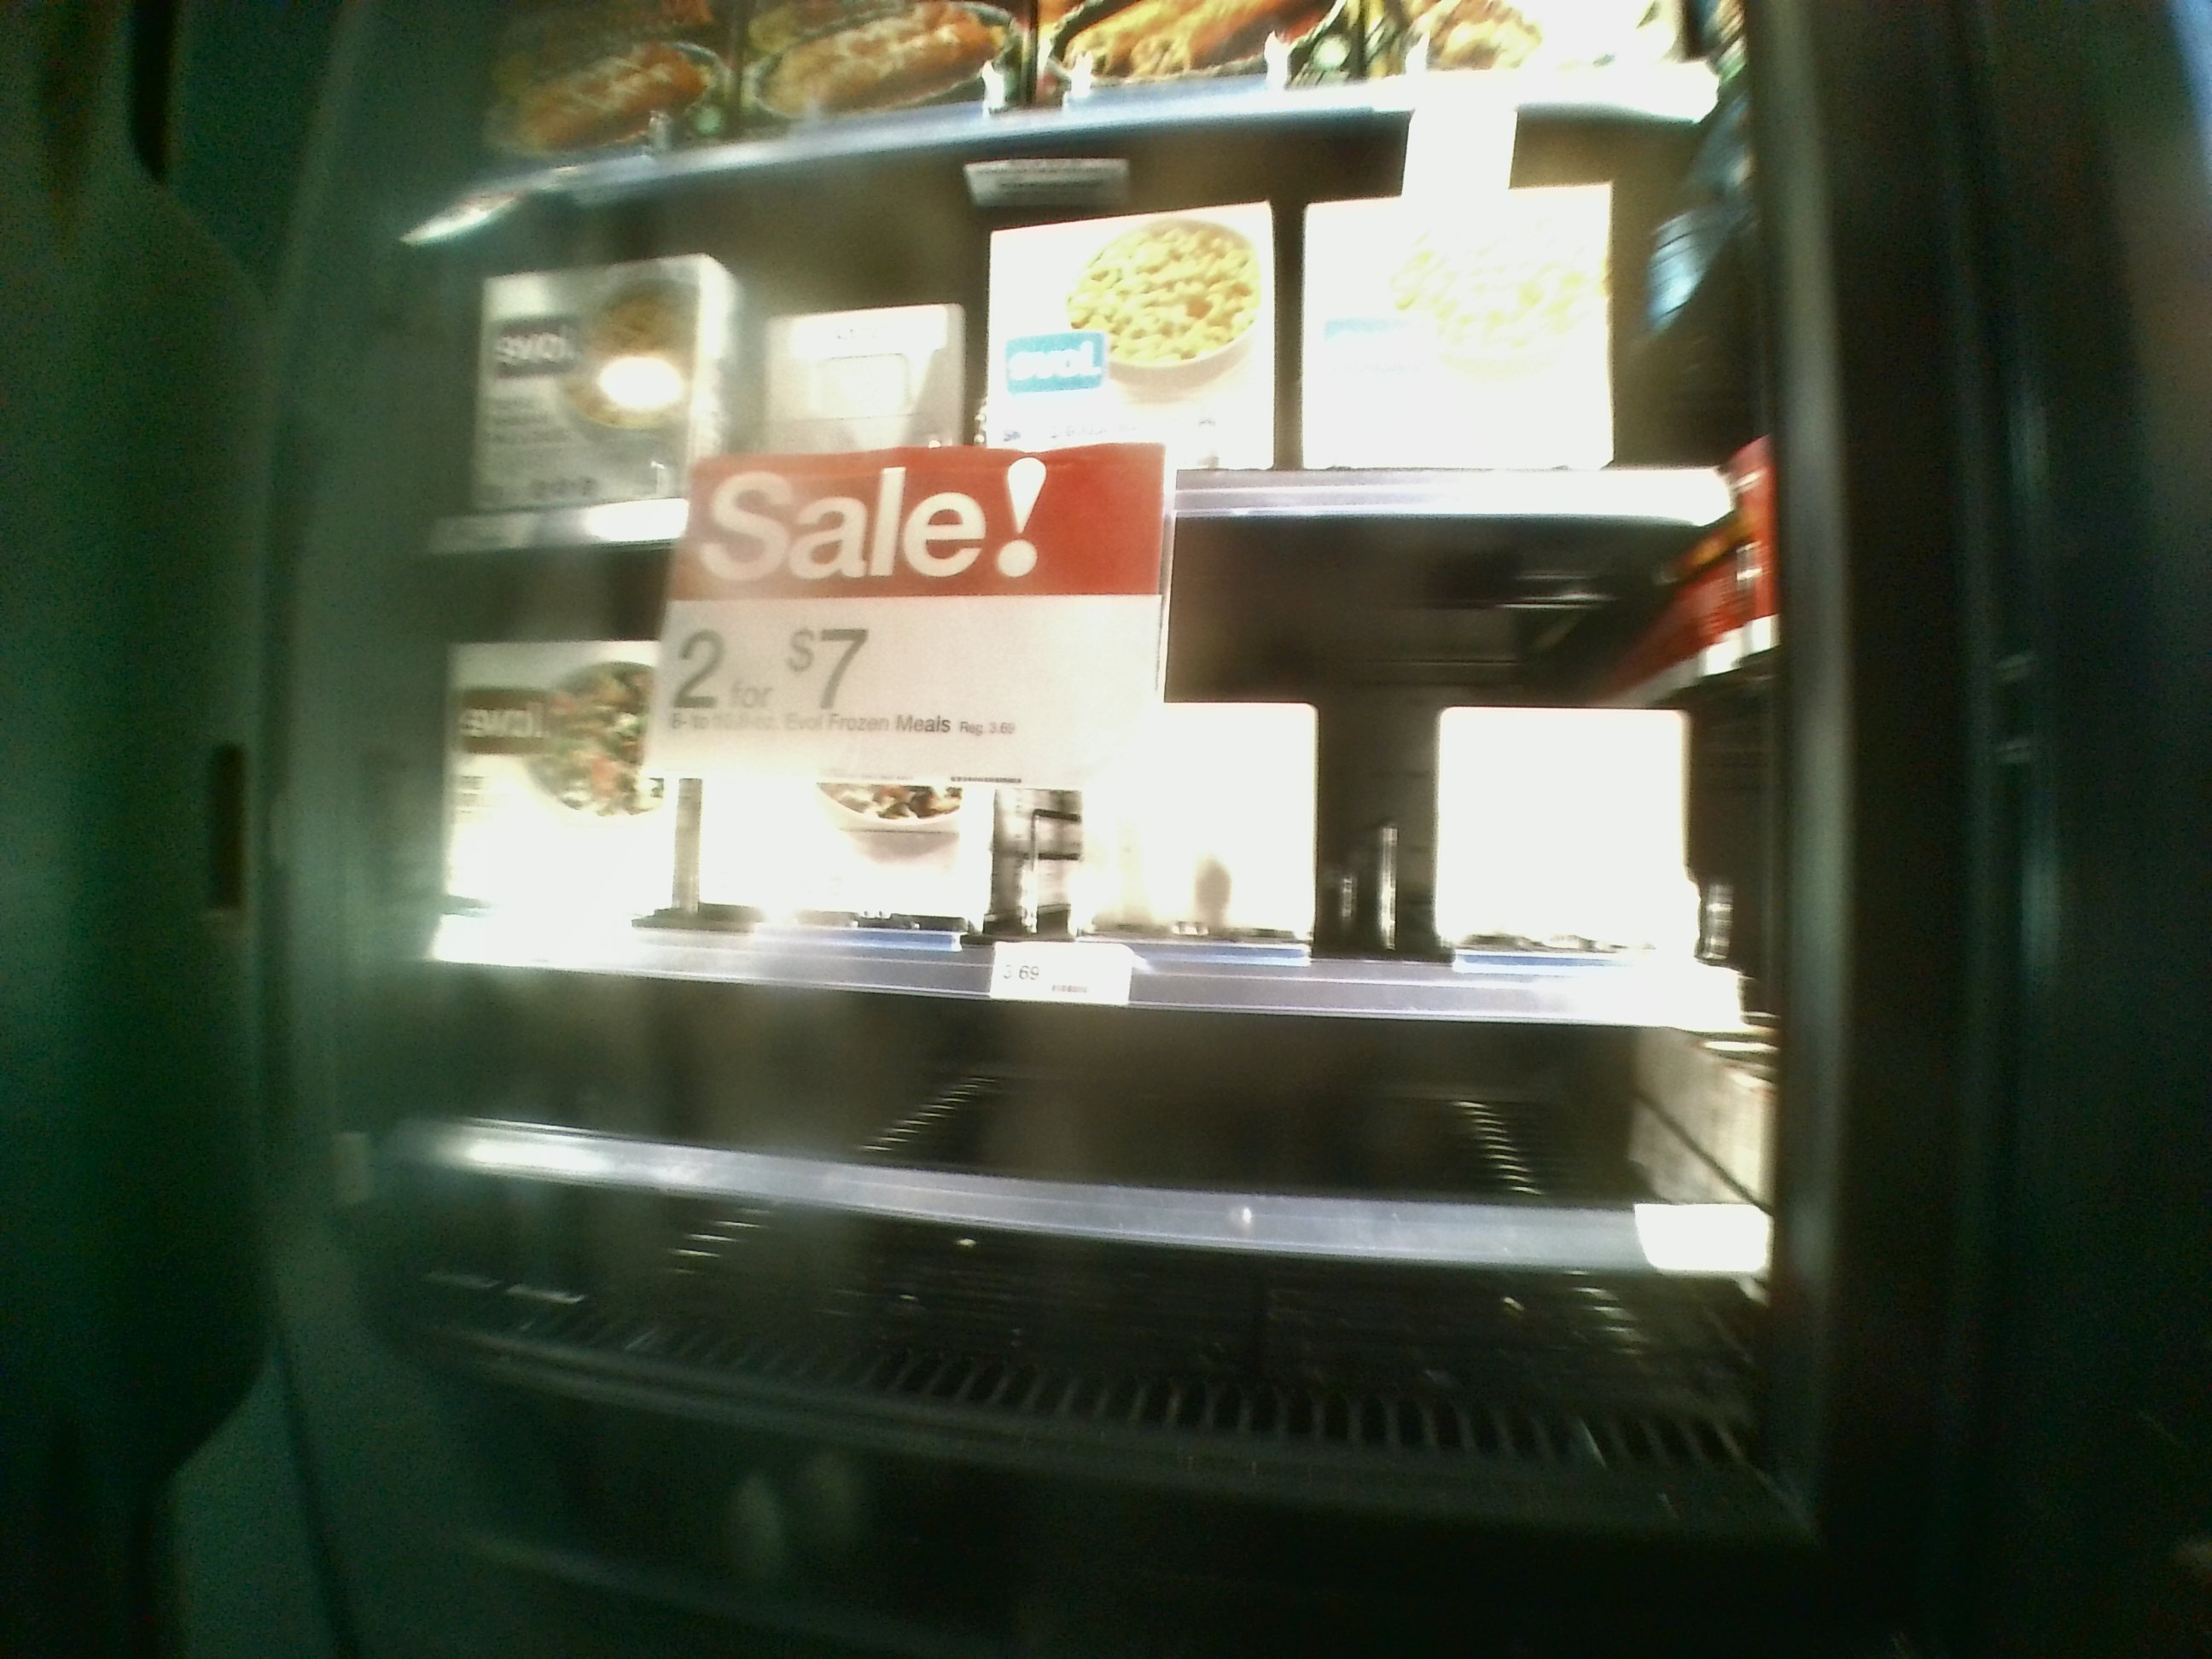shelf: (437, 544, 1747, 1021), (441, 162, 1750, 544), (441, 1016, 1761, 1384)
